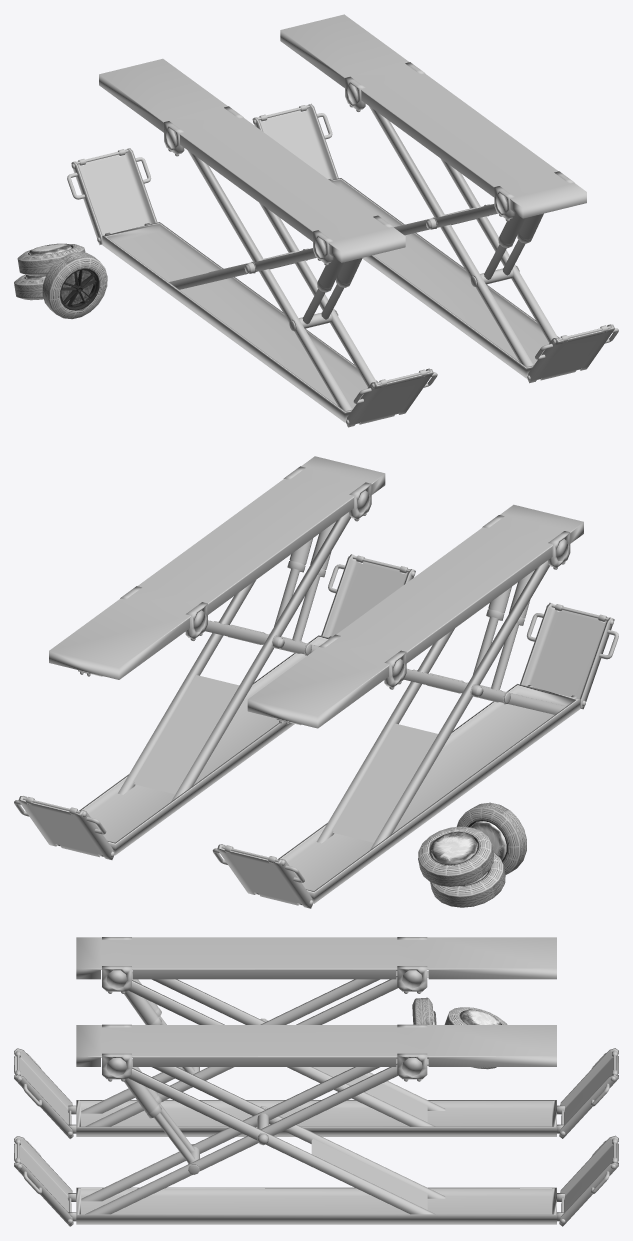
The model's file is 1 под.fbx.
3 views of the same model, one above another, from view 1: azimuth 30°, elevation 25°; view 2: azimuth 150°, elevation 25°; view 3: azimuth 270°, elevation 25° (orthographic). The views are drawn at different scales.
Parts seen in each view (by area): view 1: object_1, object_0; view 2: object_1, object_0; view 3: object_1, object_0.
Boxes of the visible parts, x1=… form: object_1: x1=67, y1=14, x2=618, y2=427; object_0: x1=14, y1=243, x2=107, y2=319; object_1: x1=14, y1=456, x2=618, y2=908; object_0: x1=418, y1=802, x2=526, y2=907; object_1: x1=14, y1=937, x2=618, y2=1226; object_0: x1=412, y1=997, x2=507, y2=1069.
Bounding box in the file's own units: 603 × 267 × 849.
